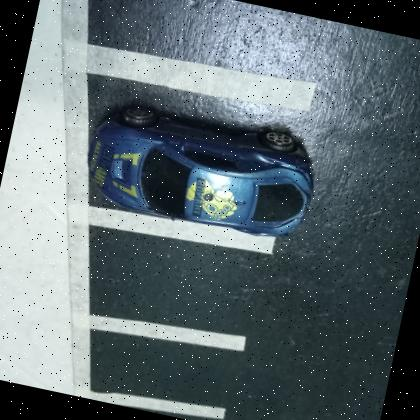Car: (74, 94, 325, 250)
